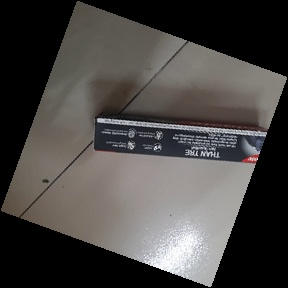Colgate Than: (92, 109, 285, 166)
